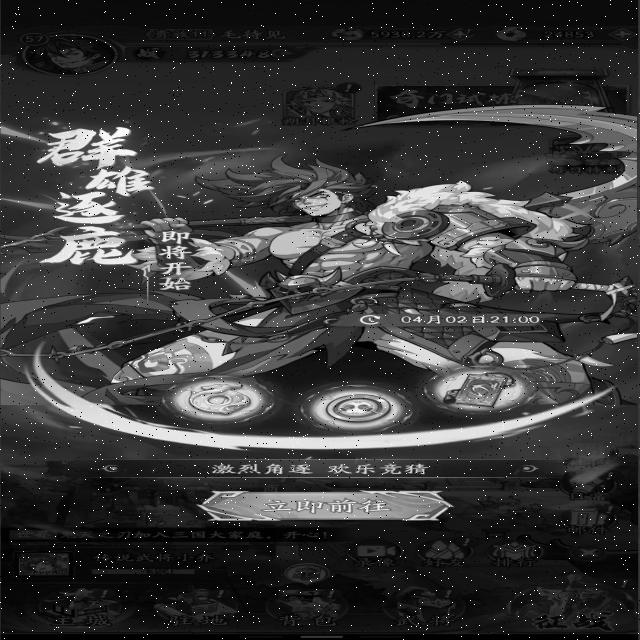operation-close: (550, 198, 604, 226)
operation-confirm: (184, 487, 456, 523)
